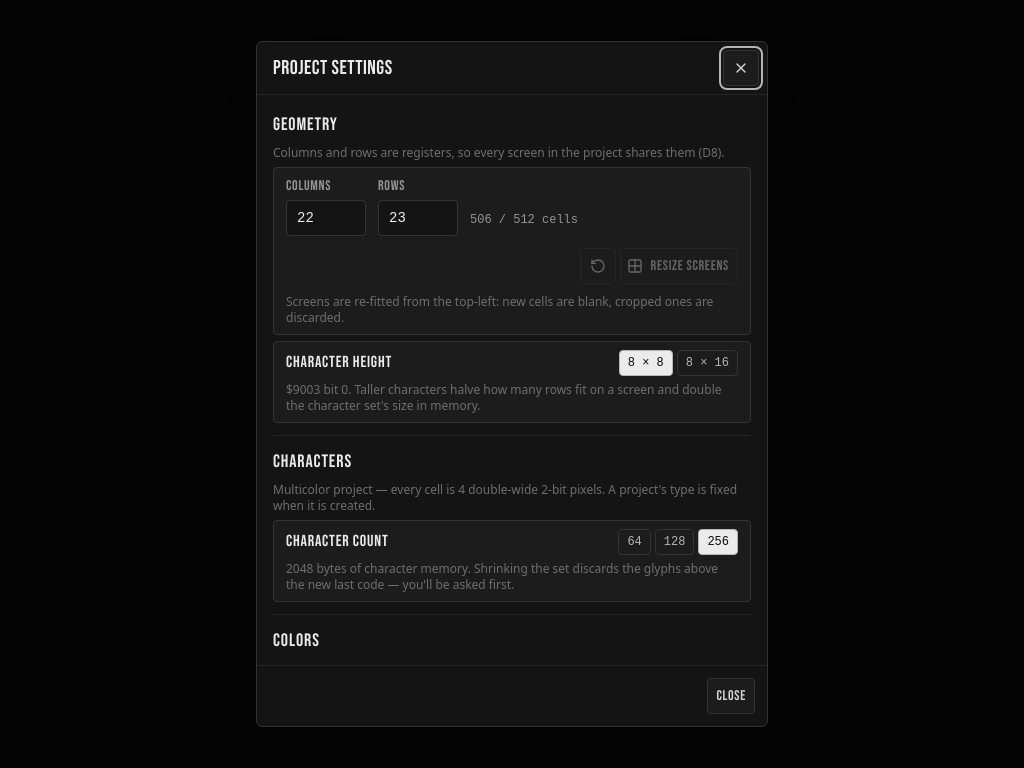
ProjectSettingsDialog › geometry (D8, D9) › re-reads the project when the geometry changes underneath
Replace the text in the number field named "Rows" with "10" at {"x": 418, "y": 218}, box [378, 200, 458, 236]
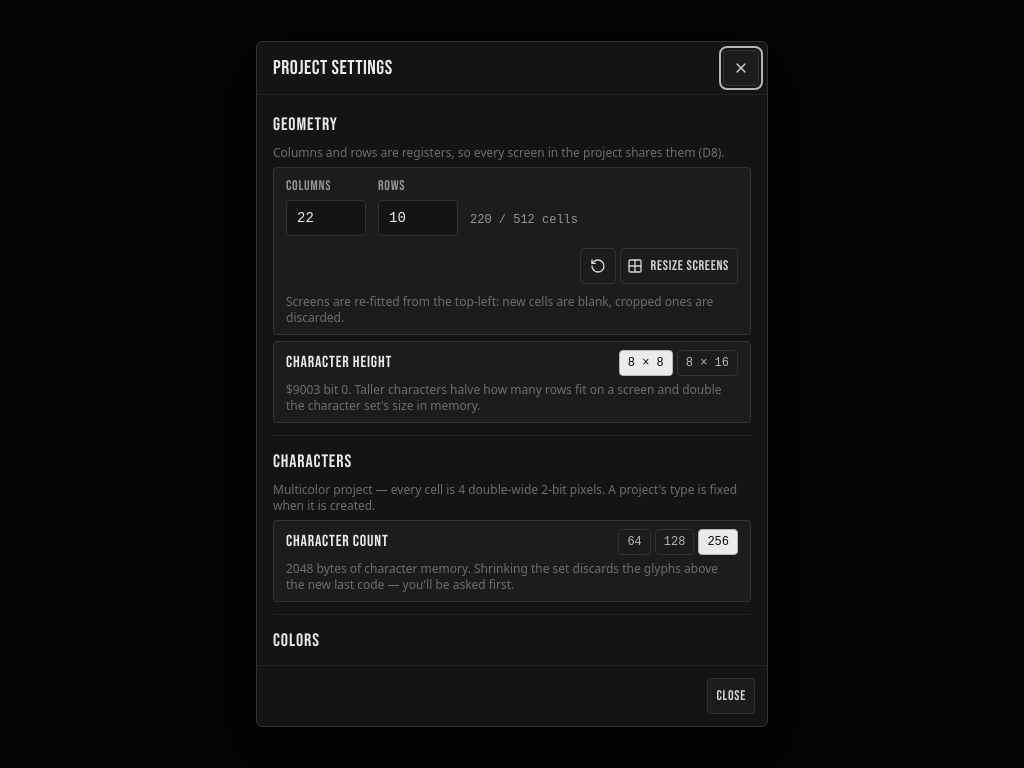
Click the button "Resize Screens" at {"x": 679, "y": 266}, box [620, 248, 738, 284]
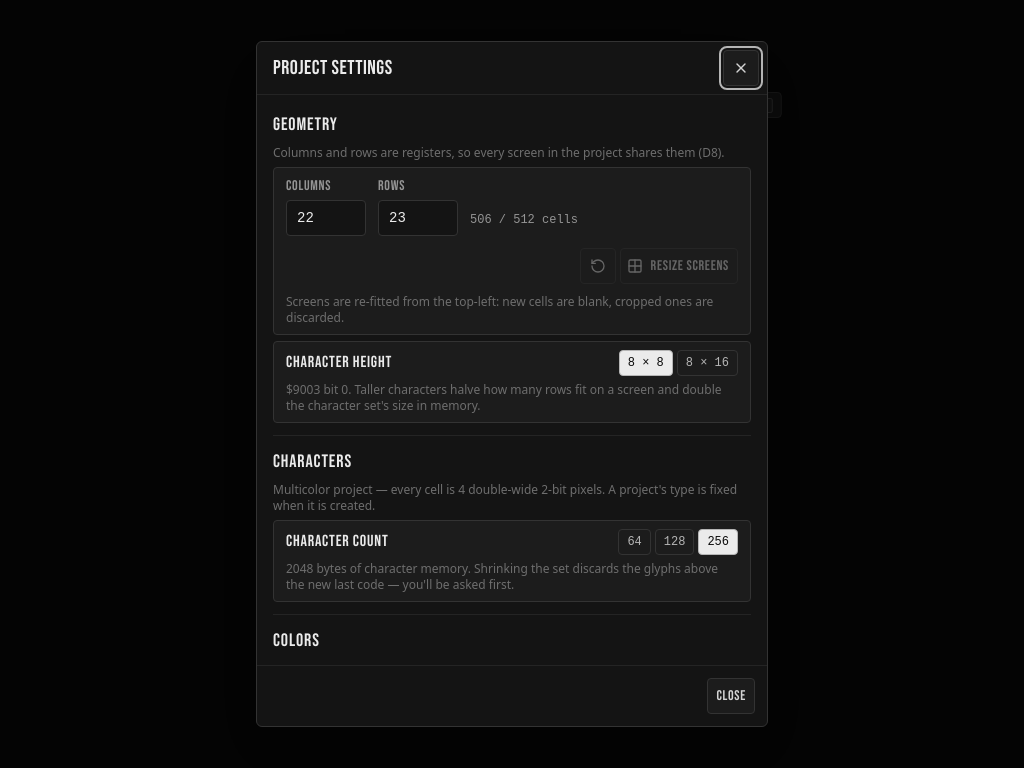
Expected: the number field named "Rows" holds "23", [378, 200, 458, 236]
